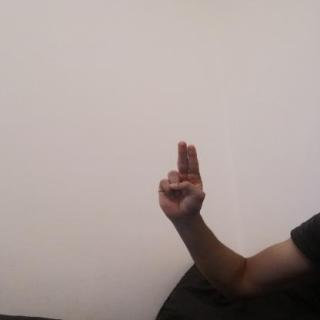TA: (148, 132, 215, 223)
